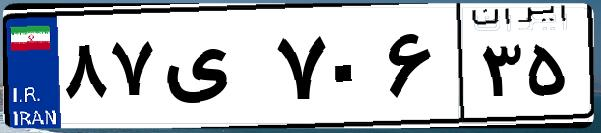0: (330, 28, 385, 110)
3: (475, 38, 525, 113)
5: (525, 38, 570, 115)
6: (385, 28, 445, 110)
7: (270, 28, 330, 110), (110, 28, 158, 98)
8: (57, 26, 110, 100)
ی: (158, 20, 270, 120)
